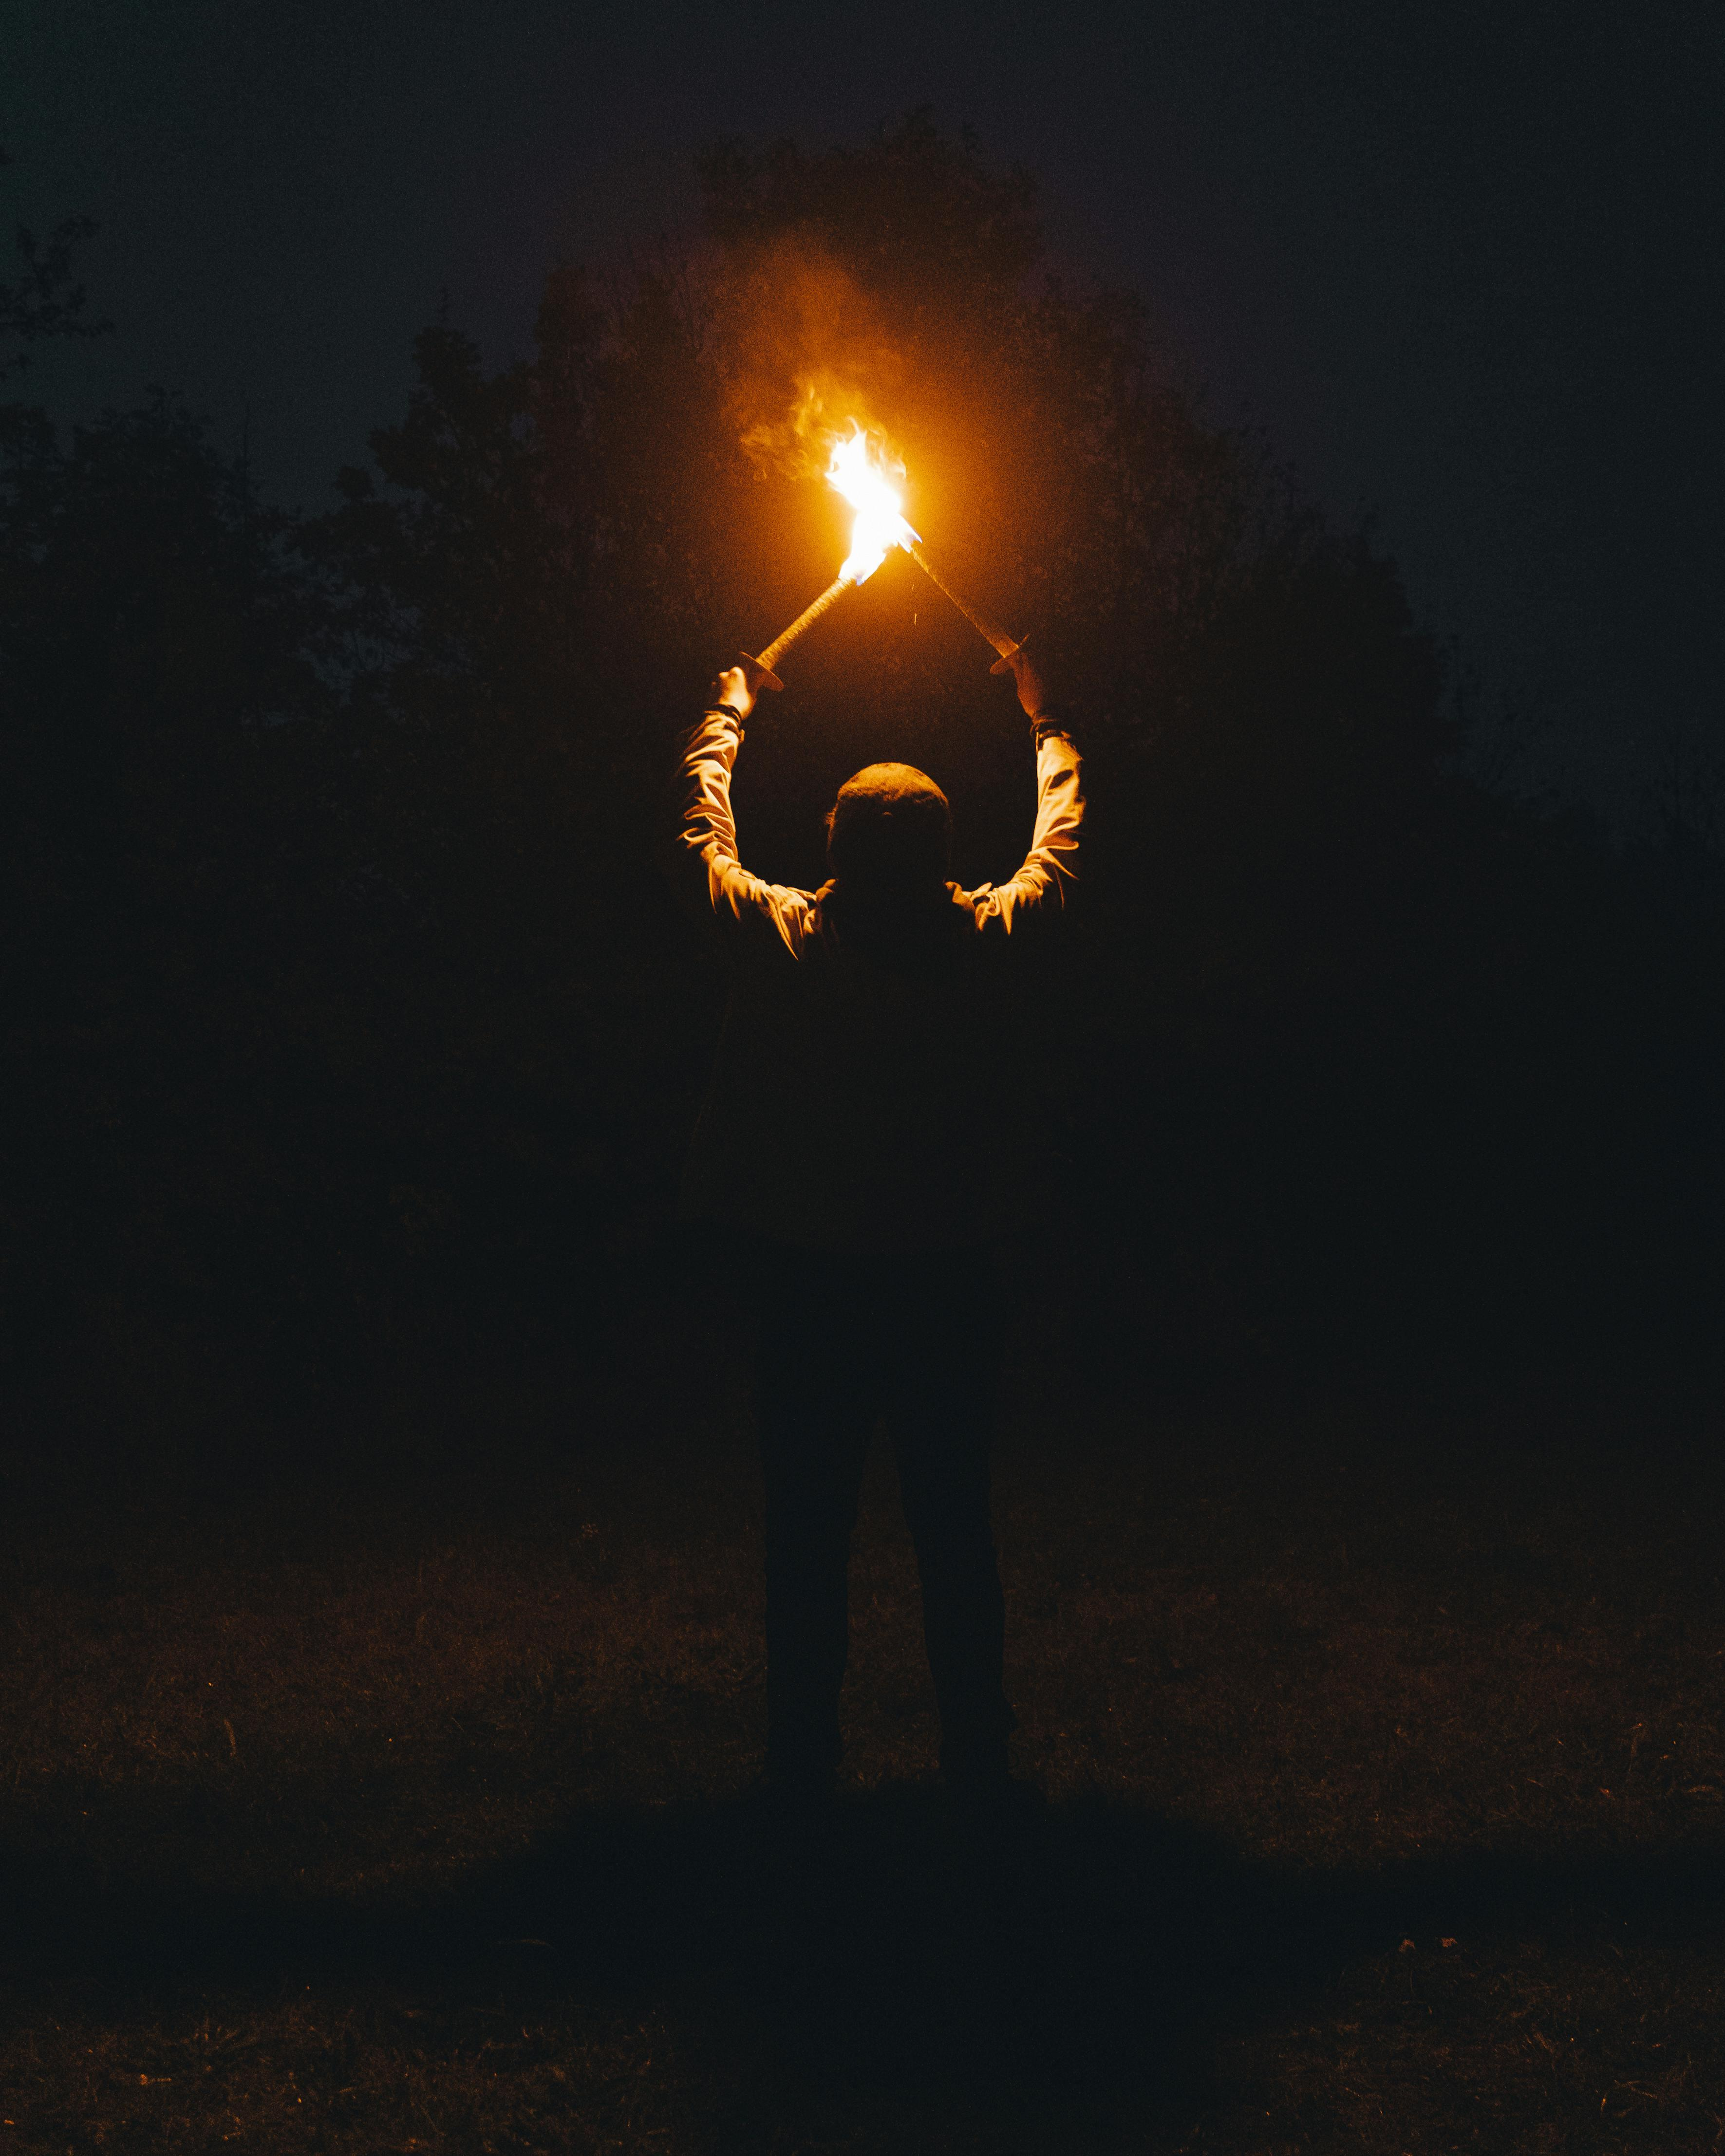Fire: (799, 385, 947, 614)
